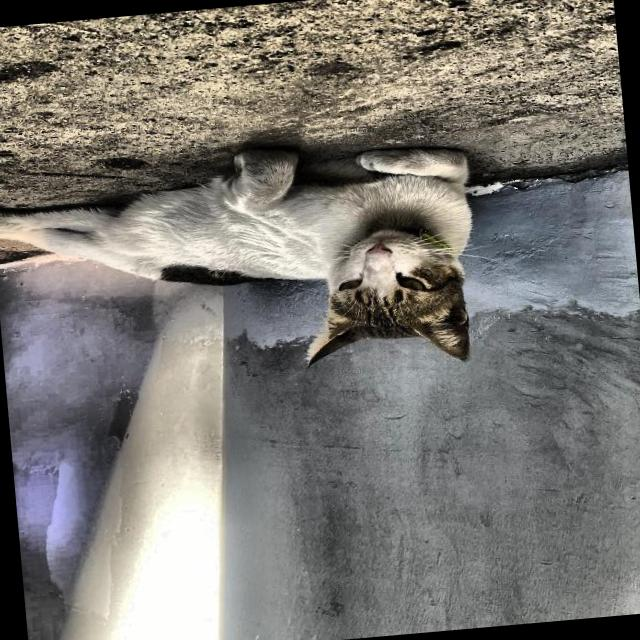Healthy skin: (252, 196, 362, 252), (411, 298, 477, 358)
